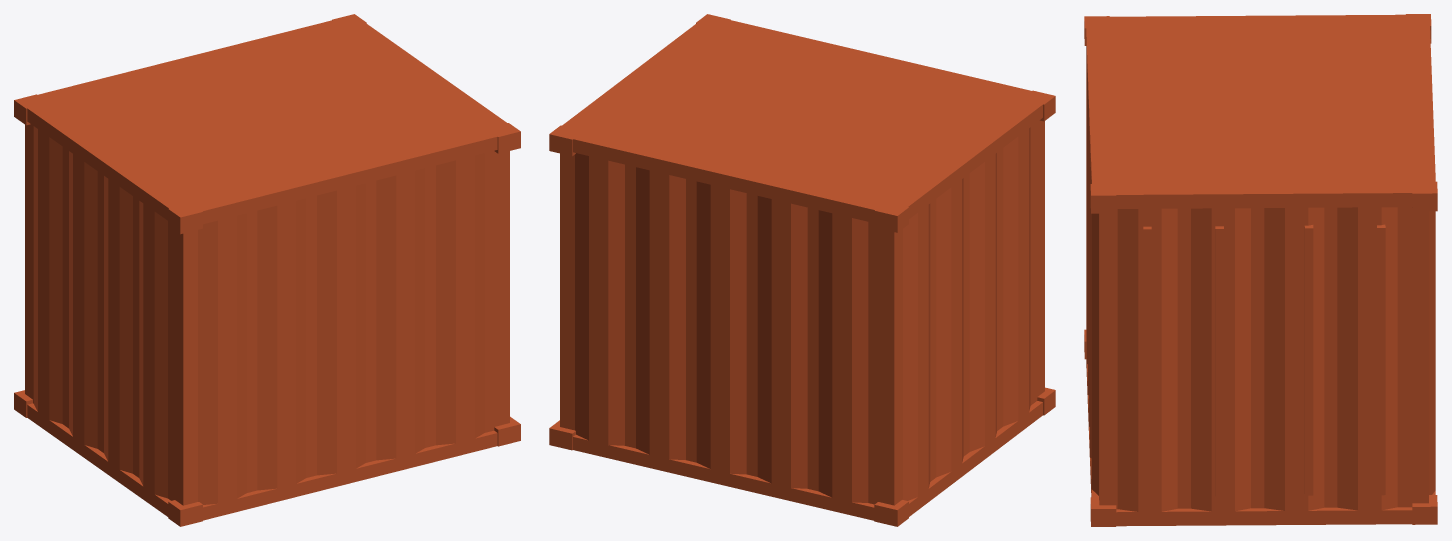
File: SignalOrangeContainer.fbx
3 renders of one model, left to right at view 1: azimuth 30°, elevation 25°; view 2: azimuth 150°, elevation 25°; view 3: azimuth 270°, elevation 25°, orthographic. The views are drawn at different scales.
Parts seen in each view (by area): view 1: Container_LP_SignalOrange; view 2: Container_LP_SignalOrange; view 3: Container_LP_SignalOrange.
Boxes of the visible parts, x1,y1,x2,y2 form: Container_LP_SignalOrange: [14, 14, 520, 526]; Container_LP_SignalOrange: [549, 14, 1055, 526]; Container_LP_SignalOrange: [1084, 14, 1437, 526].
Bounding box in the file's own units: 308 × 259 × 251.
